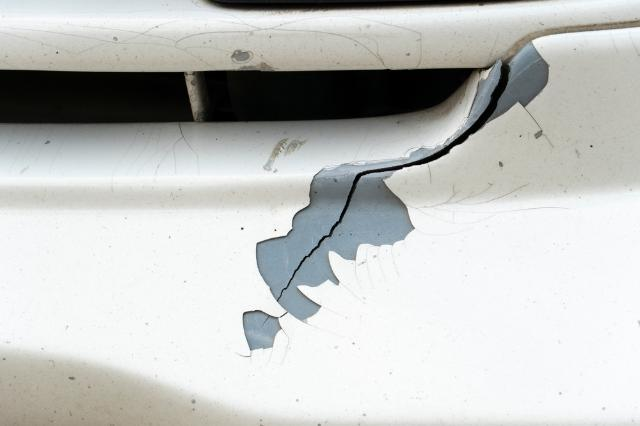crack: (258, 62, 513, 328)
